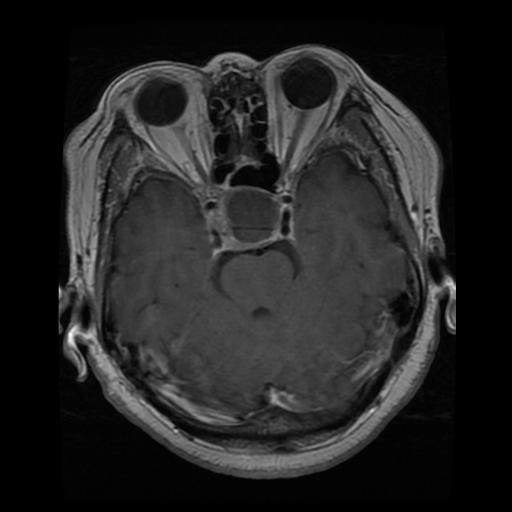Pituirity_tumour: (215, 184, 285, 250)
